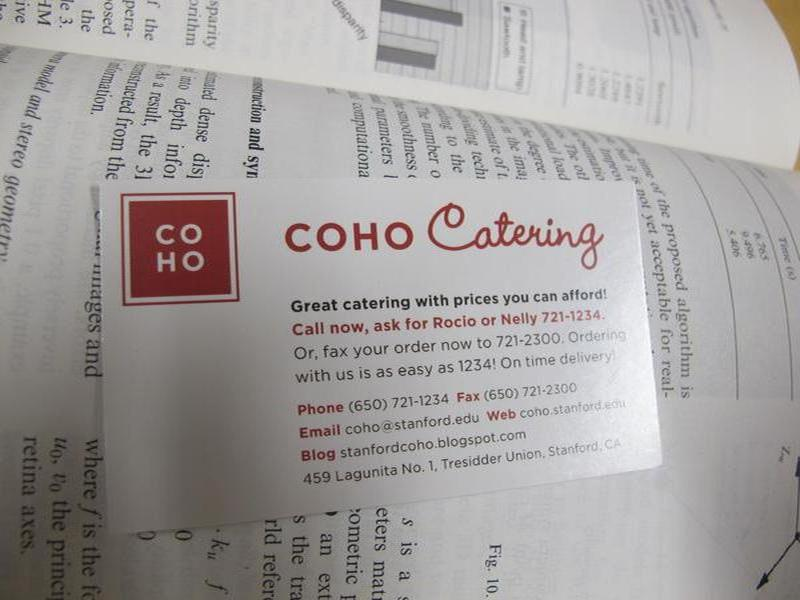card: (98, 178, 669, 531)
